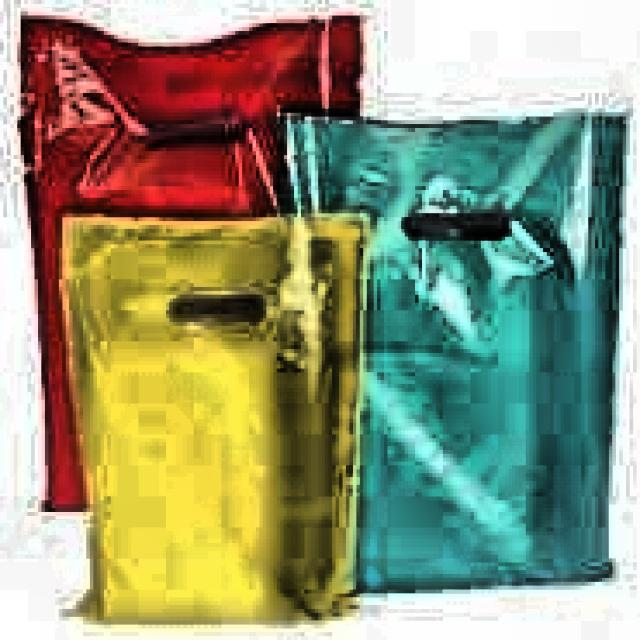Plastic: (263, 88, 630, 602), (48, 190, 383, 631), (8, 2, 397, 241)
